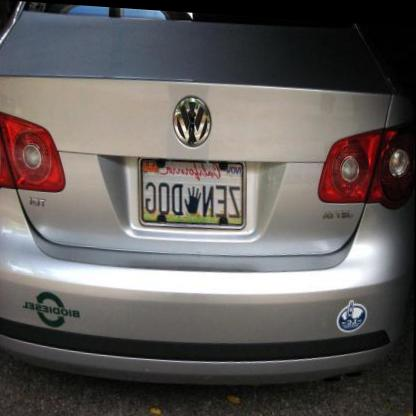License_Plate: (136, 154, 247, 234)
